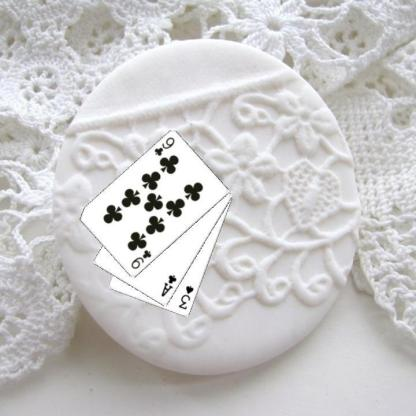3S: (176, 283, 195, 311)
9C: (151, 134, 176, 158), (128, 248, 153, 270)
AC: (158, 273, 178, 298)
